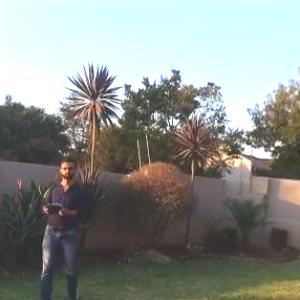follow: (30, 148, 94, 299)
